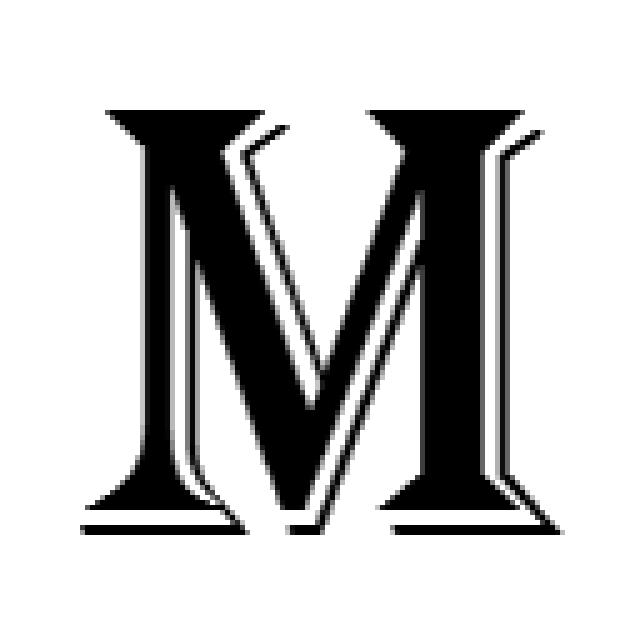M: (71, 111, 568, 536)
